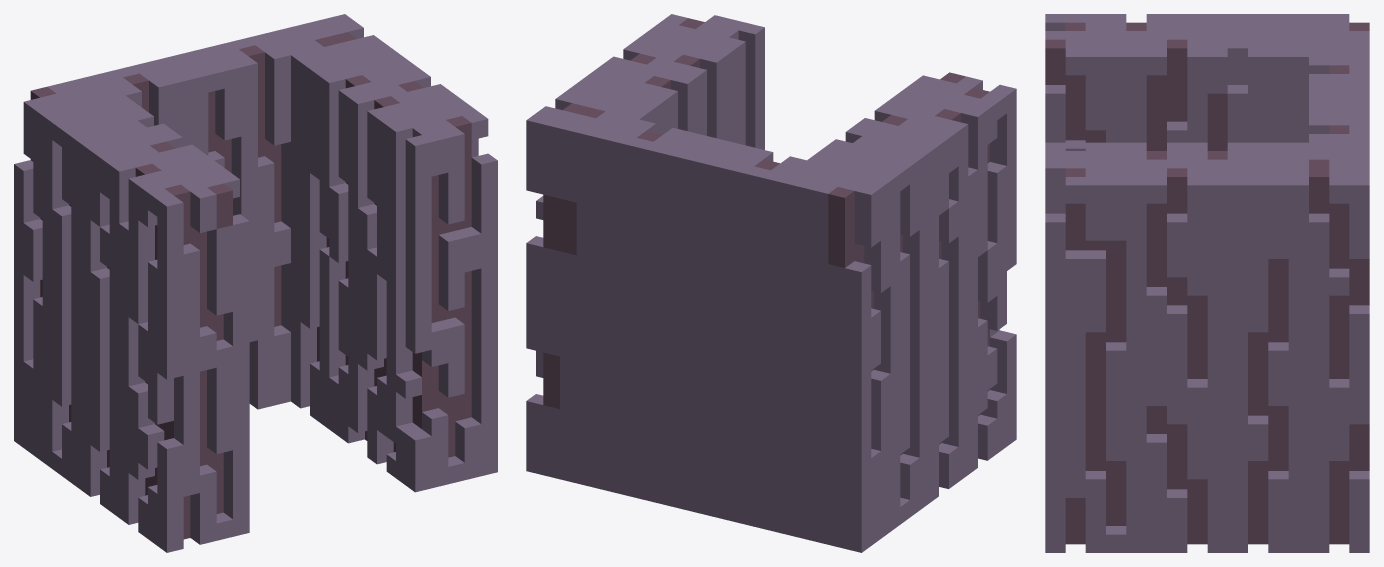
Rendered from Floors-10.obj.
3 renders of one model, left to right at view 1: azimuth 30°, elevation 25°; view 2: azimuth 150°, elevation 25°; view 3: azimuth 270°, elevation 25°, orthographic. The views are drawn at different scales.
Bounding box in the file's own units: 2 × 2 × 1.6.
Materials: 1 (1 with a texture image).
